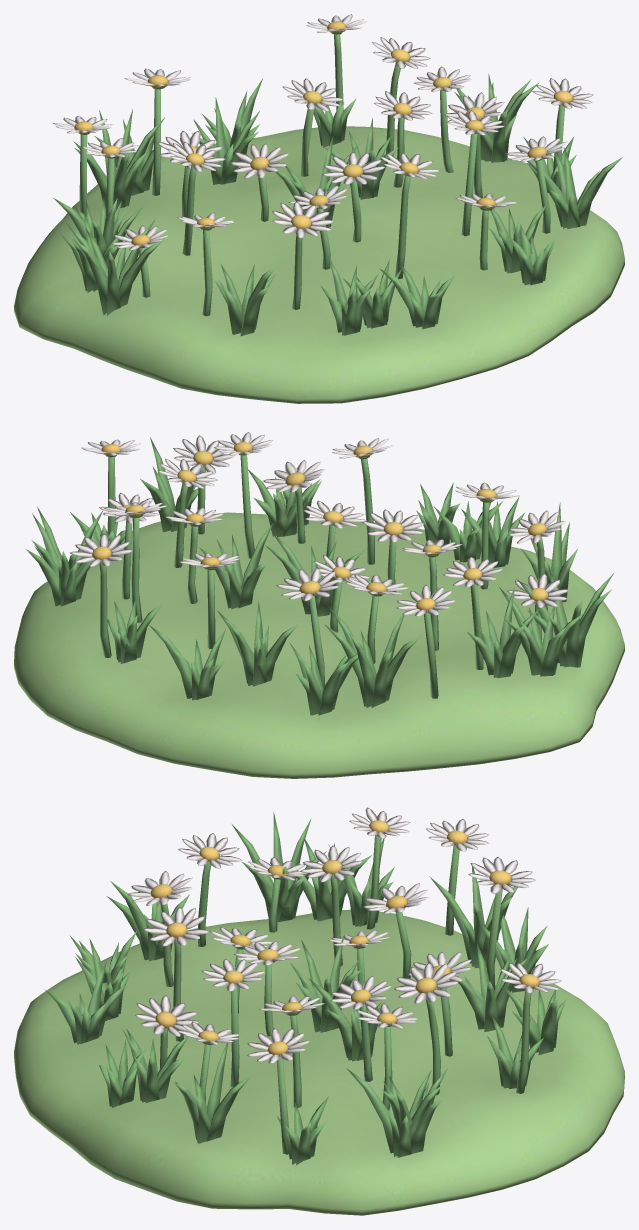
File: daisy-patch.glb
3 views of the same model, one above another, from view 1: azimuth 30°, elevation 25°; view 2: azimuth 150°, elevation 25°; view 3: azimuth 270°, elevation 25° (orthographic). The views are drawn at different scales.
Visible parts, largest first — view 1: daisy-patch.001; view 2: daisy-patch.001; view 3: daisy-patch.001.
Boxes of the visible parts, bbox=[...] form: daisy-patch.001: bbox=[14, 14, 624, 403]; daisy-patch.001: bbox=[14, 432, 624, 778]; daisy-patch.001: bbox=[14, 807, 624, 1215].
Size of the model in its own units: 3.53 by 1 by 3.22.
1 material, 1 textured.
